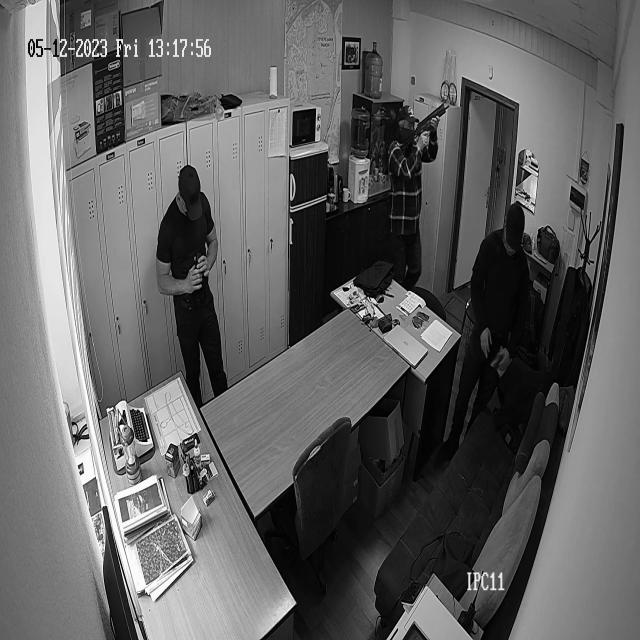gun: (400, 102, 450, 143)
person: (158, 166, 227, 362), (476, 202, 527, 370)
person with a gun: (390, 90, 449, 283)
